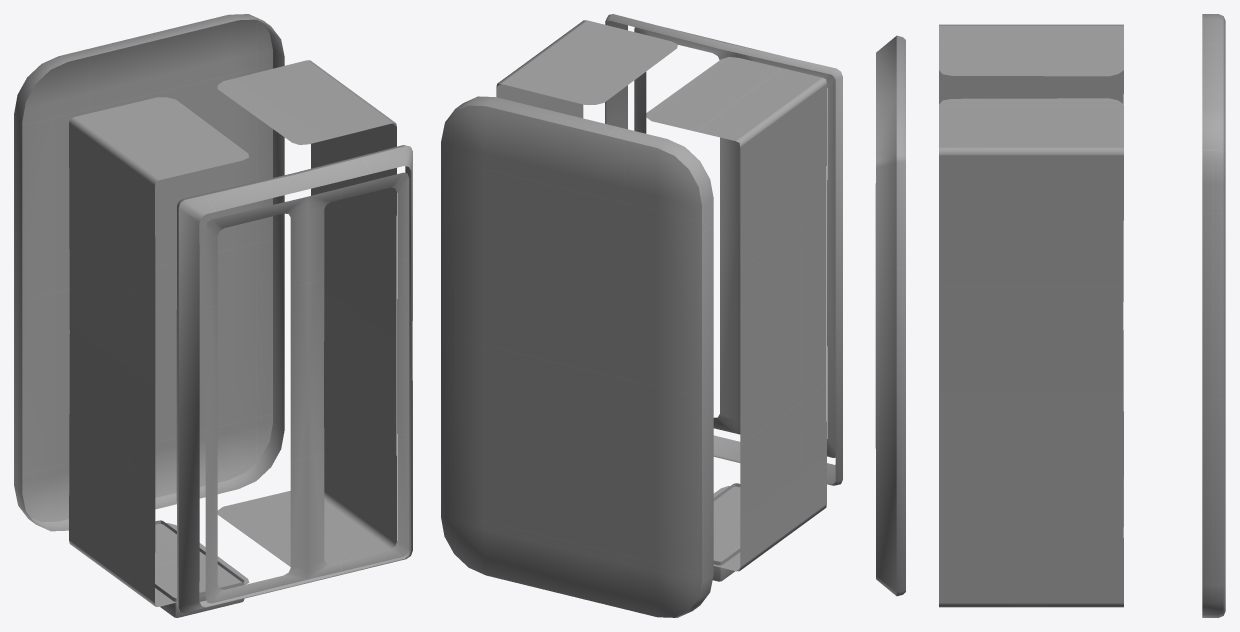
The model's file is MeshToaster_9_0_GeomSubset_0.obj.
The picture shows the model from 3 angles, left to right: view 1: azimuth 30°, elevation 25°; view 2: azimuth 150°, elevation 25°; view 3: azimuth 270°, elevation 25°; orthographic projection. The views are drawn at different scales.
Visible parts, largest first — view 1: MeshToaster_9_0_GeomSubset_0; view 2: MeshToaster_9_0_GeomSubset_0; view 3: MeshToaster_9_0_GeomSubset_0.
Part boxes in pixels (x1,y1,x2,y2): MeshToaster_9_0_GeomSubset_0: [14, 14, 412, 617]; MeshToaster_9_0_GeomSubset_0: [441, 14, 842, 617]; MeshToaster_9_0_GeomSubset_0: [875, 14, 1225, 617].
Size of the model in its own units: 0.1874 by 0.3202 by 0.2041.
